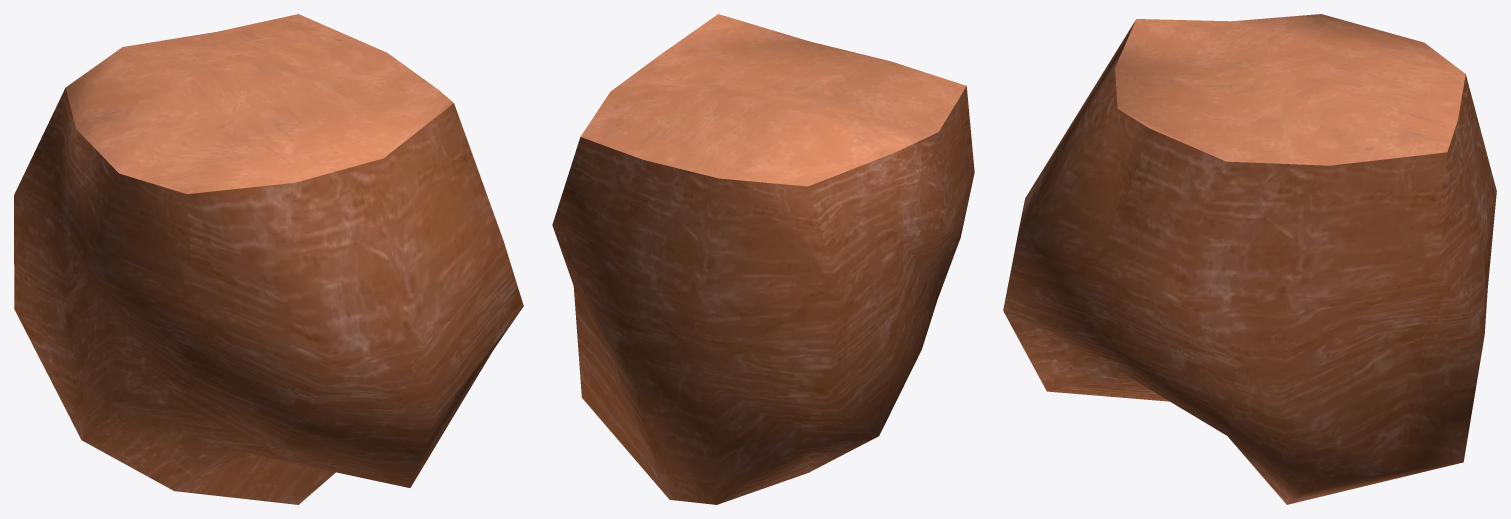
File: desert_mesa_2.glb
3 views of the same model, side by side, from view 1: azimuth 30°, elevation 25°; view 2: azimuth 150°, elevation 25°; view 3: azimuth 270°, elevation 25° (orthographic). The views are drawn at different scales.
Parts seen in each view (by area): view 1: Rock_Platforms_2; view 2: Rock_Platforms_2; view 3: Rock_Platforms_2.
Boxes of the visible parts, box(x1,y1,x2,y2) form: Rock_Platforms_2: box(14, 14, 523, 504); Rock_Platforms_2: box(552, 14, 974, 504); Rock_Platforms_2: box(1003, 14, 1496, 504).
Size of what is drawn, in the model's own units: 5.37 by 5.58 by 6.
Materials: 2 (2 with a texture image).
